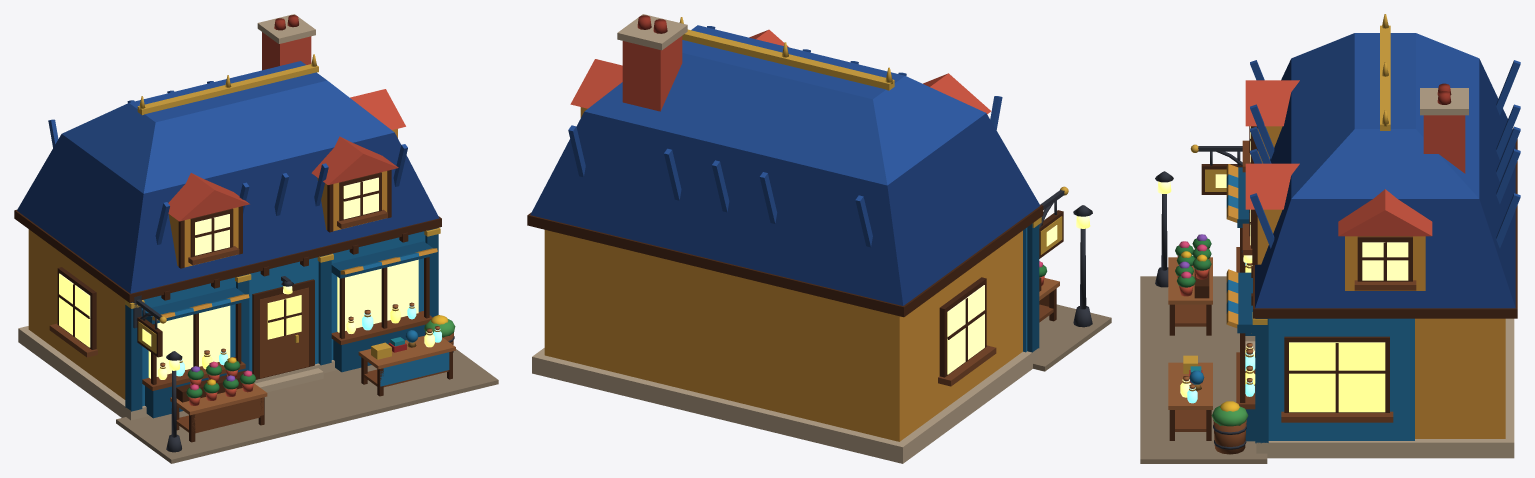
The model's file is venue_memory_shop.glb.
3 renders of one model, left to right at view 1: azimuth 30°, elevation 25°; view 2: azimuth 150°, elevation 25°; view 3: azimuth 270°, elevation 25°, orthographic. The views are drawn at different scales.
Visible parts, largest first — view 1: venue_memory_shop; view 2: venue_memory_shop; view 3: venue_memory_shop.
Boxes of the visible parts, x1=… form: venue_memory_shop: x1=14, y1=14, x2=498, y2=463; venue_memory_shop: x1=527, y1=14, x2=1111, y2=463; venue_memory_shop: x1=1140, y1=14, x2=1520, y2=463.
Bounding box in the file's own units: 9.9 × 8.32 × 8.69.
